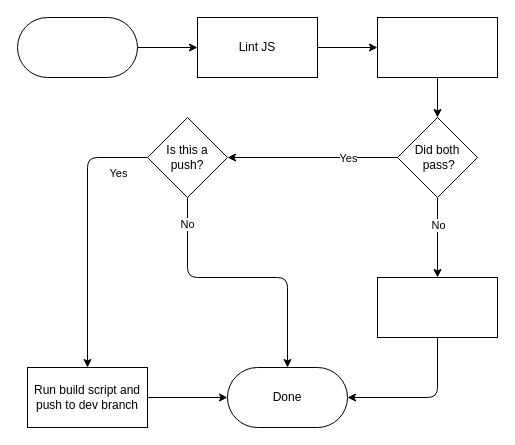
This 515x445 diagram has some shape labels left out. Each missing label, with the box of its shape:
Exit and fail: (376, 276, 498, 338)
Run Unit tests: (376, 16, 498, 78)
Start: (16, 16, 138, 78)
